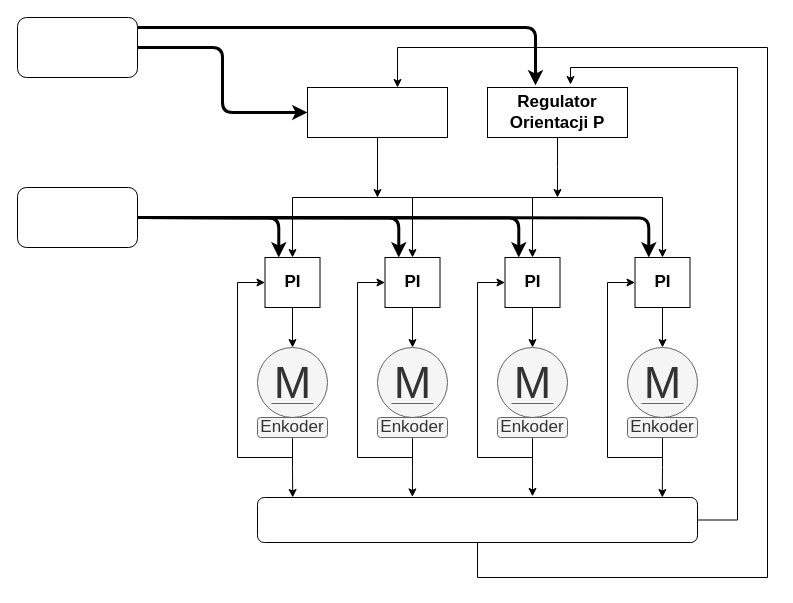
Image size: 793x603. Some labels were removed from this diagram. Here are the shapes that lost their labels. From the top down, the box of each, then its label:
(16, 16, 138, 78): Zadany Punkt
(306, 86, 448, 138): Regulator Położenia P
(16, 186, 138, 248): Sterowanie manualne
(256, 496, 698, 542): Aktualna Pozycja i Orientacja Robota
